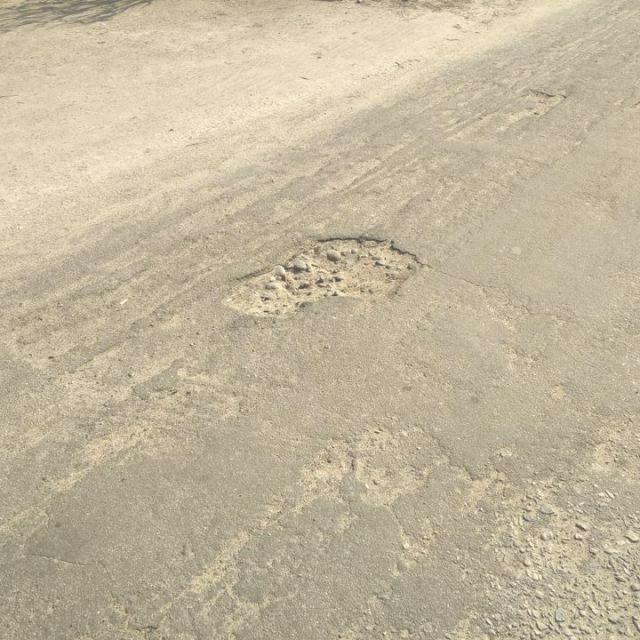Pothole: (219, 232, 426, 317), (511, 84, 571, 123)
